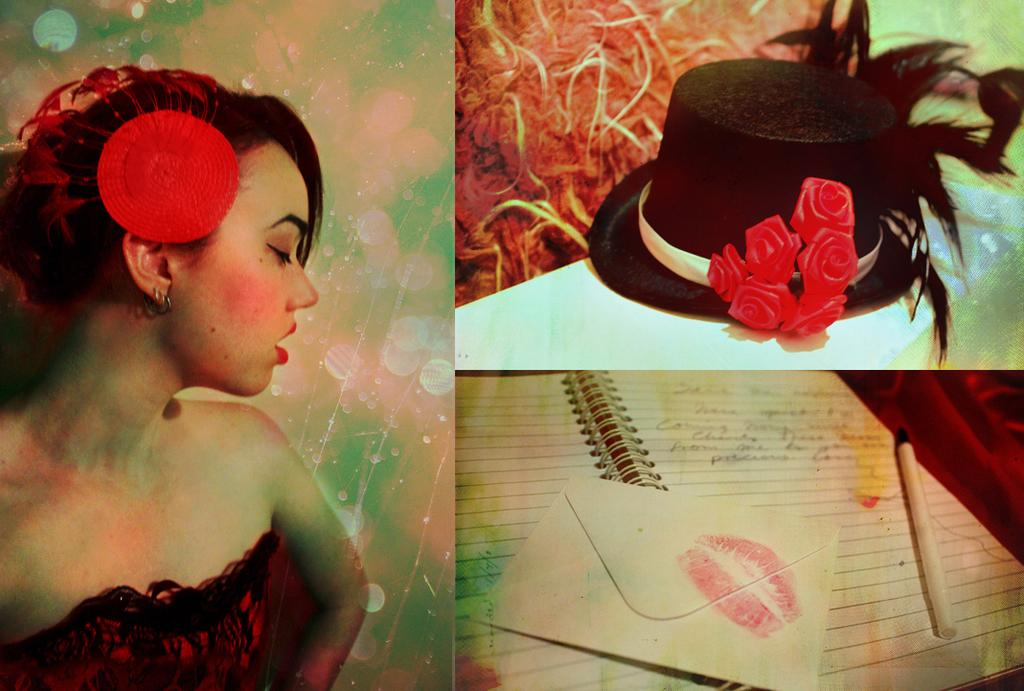Hat: (584, 0, 1020, 369)
